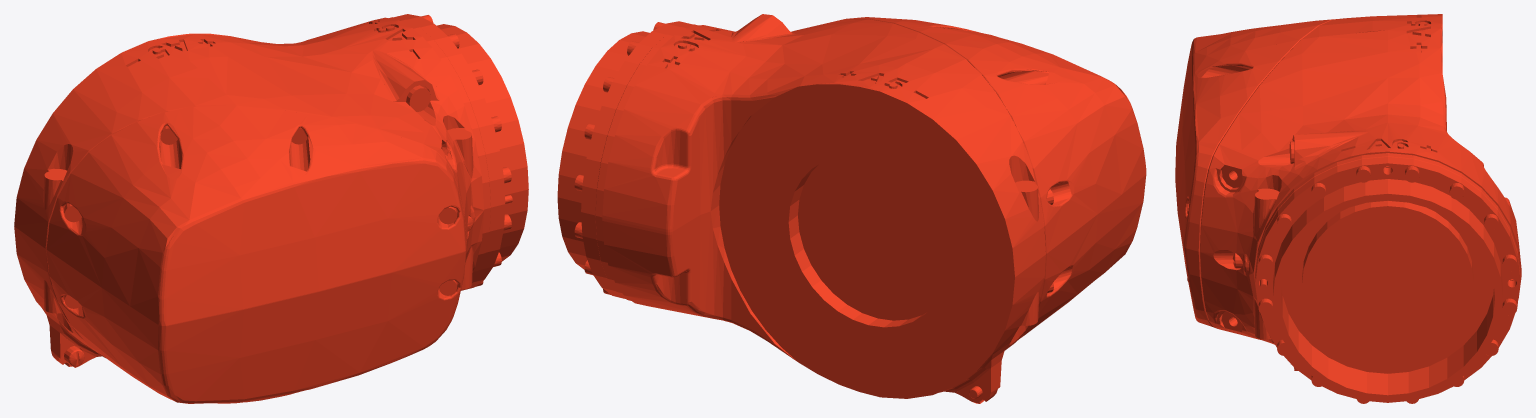
3 views of the same model, side by side, from view 1: azimuth 30°, elevation 25°; view 2: azimuth 150°, elevation 25°; view 3: azimuth 270°, elevation 25° (orthographic). The views are drawn at different scales.
Parts seen in each view (by area): view 1: link_5; view 2: link_5; view 3: link_5.
Part boxes in pixels (x1,y1,x2,y2): link_5: (14, 14, 528, 403); link_5: (557, 14, 1146, 403); link_5: (1175, 14, 1521, 403).
Size of the model in its own units: 0.2662 by 0.2019 by 0.1835.
